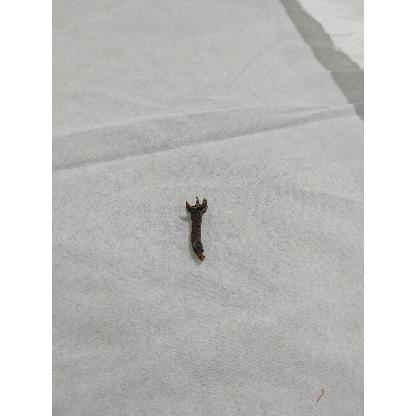buruk: (185, 198, 208, 263)
